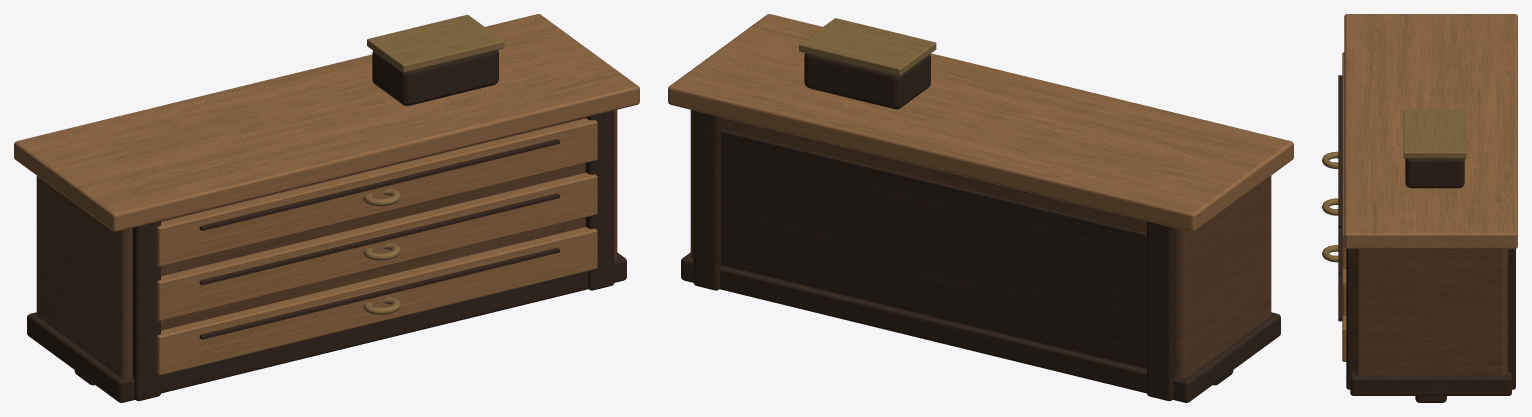
Rendered from dresser.glb.
3 views of the same model, side by side, from view 1: azimuth 30°, elevation 25°; view 2: azimuth 150°, elevation 25°; view 3: azimuth 270°, elevation 25° (orthographic). The views are drawn at different scales.
Visible parts, largest first — view 1: dresser; view 2: dresser; view 3: dresser.
Boxes of the visible parts, x1=… form: dresser: x1=14, y1=14, x2=639, y2=402; dresser: x1=668, y1=14, x2=1293, y2=402; dresser: x1=1322, y1=14, x2=1517, y2=402.
Bounding box in the file's own units: 2.4 × 1.1 × 0.9.
1 material, 1 textured.
